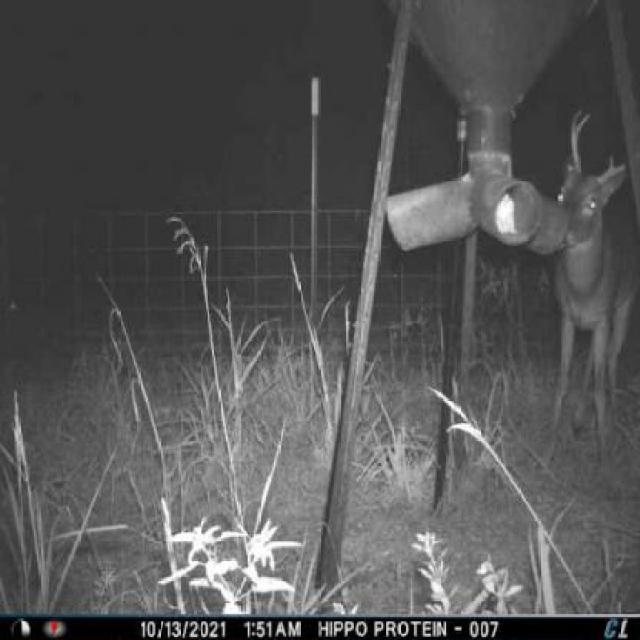Deer: (547, 96, 639, 478)
